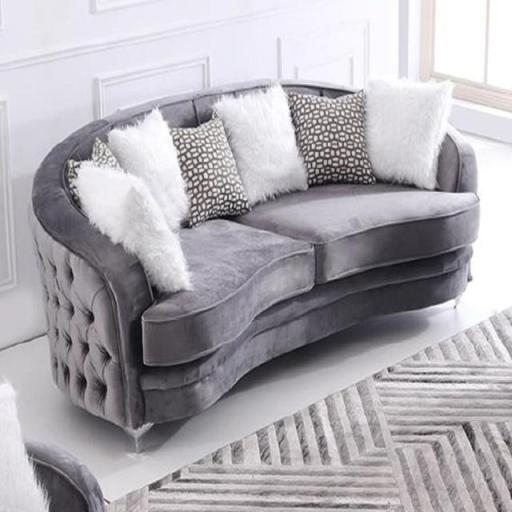sofa: (36, 54, 494, 444)
